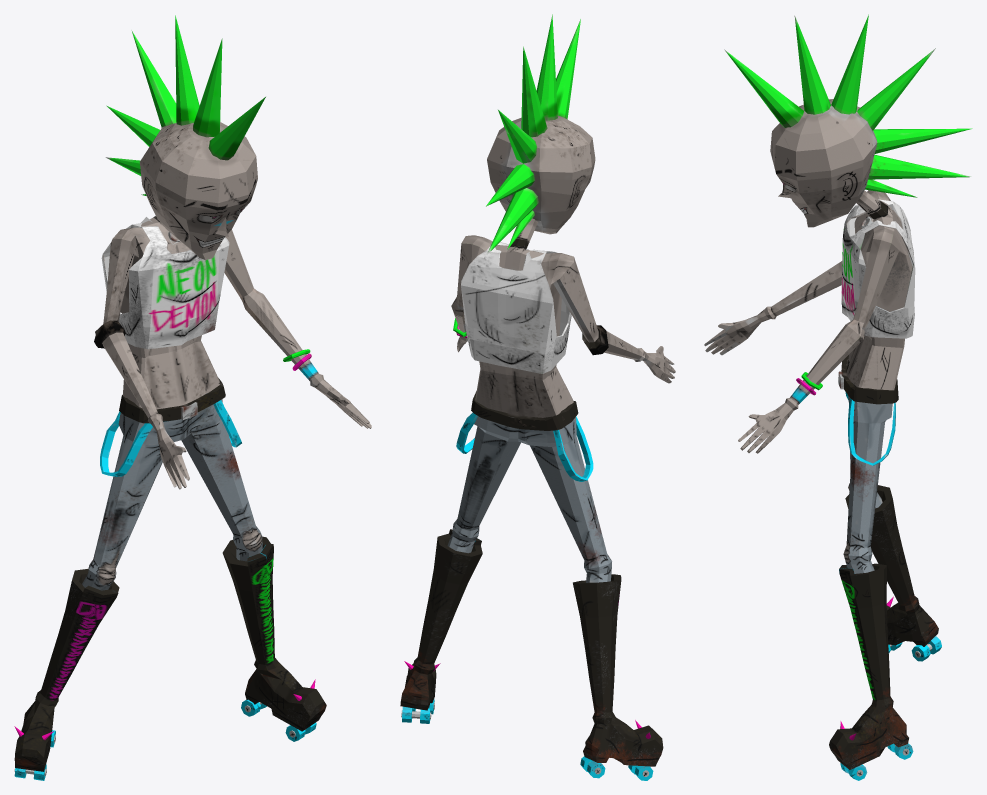
The model's file is punkAnimation_000133.obj.
3 views of the same model, side by side, from view 1: azimuth 30°, elevation 25°; view 2: azimuth 150°, elevation 25°; view 3: azimuth 270°, elevation 25° (orthographic). The views are drawn at different scales.
Visible parts, largest first — view 1: Cube.004_Cube.003; view 2: Cube.004_Cube.003; view 3: Cube.004_Cube.003.
Boxes of the visible parts, x1,y1,x2,y2 form: Cube.004_Cube.003: [14, 15, 371, 780]; Cube.004_Cube.003: [400, 14, 675, 780]; Cube.004_Cube.003: [704, 14, 972, 780].
Bounding box in the file's own units: 3.04 × 7.45 × 2.56.
